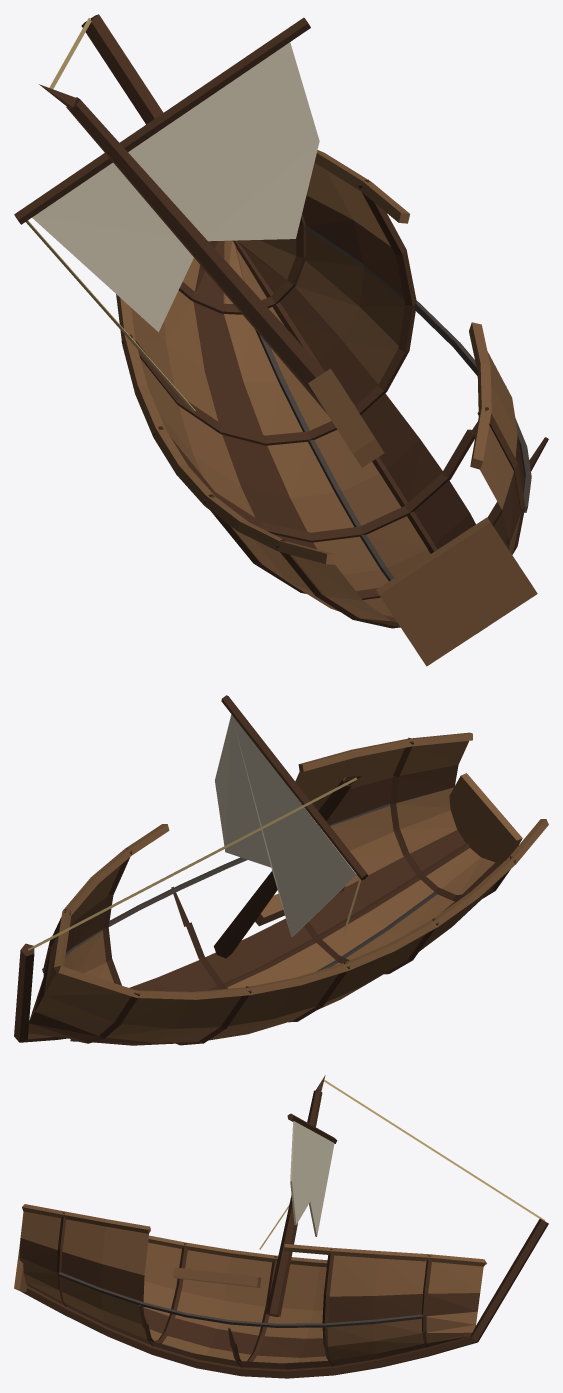
File: Wreck.obj
3 views of the same model, one above another, from view 1: azimuth 30°, elevation 25°; view 2: azimuth 150°, elevation 25°; view 3: azimuth 270°, elevation 25° (orthographic). The views are drawn at different scales.
Visible parts, largest first — view 1: Wreck; view 2: Wreck; view 3: Wreck.
Part boxes in pixels (x1,y1,x2,y2): Wreck: (14,14,548,666); Wreck: (14,695,548,1045); Wreck: (14,1075,548,1378).
Bounding box in the file's own units: 5.2 × 6.22 × 12.05.
